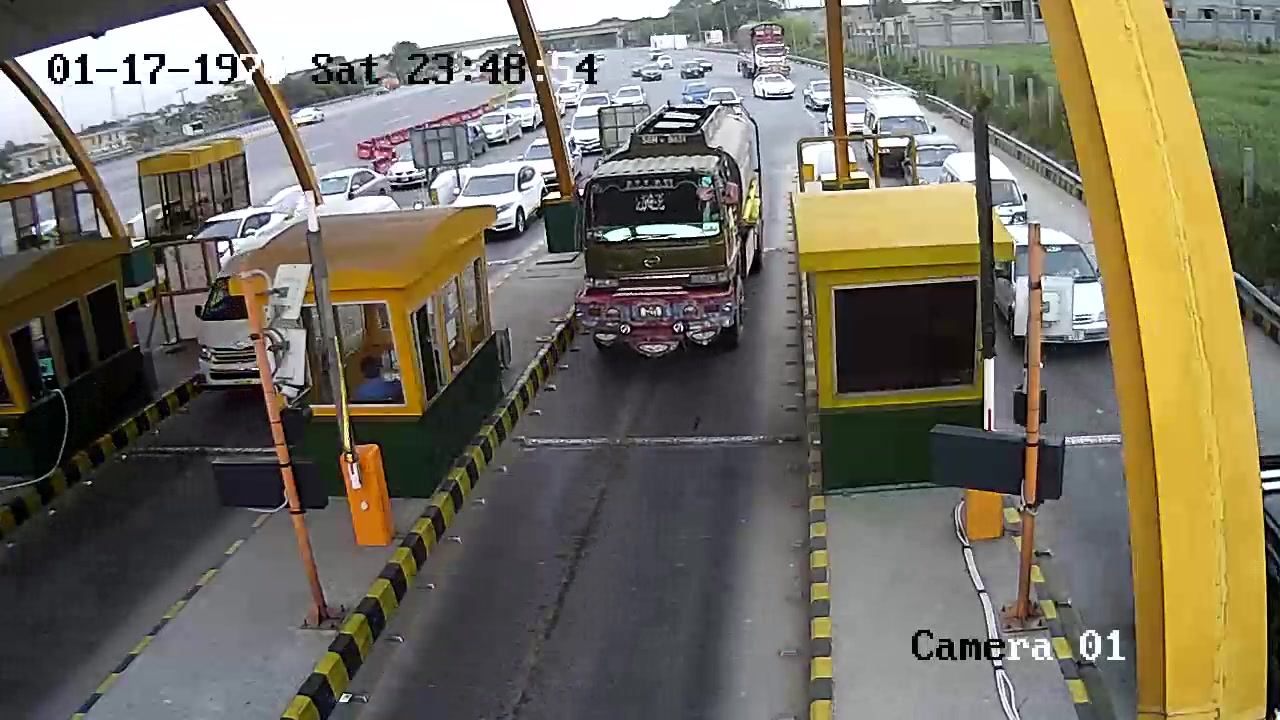F6: (569, 101, 771, 363)
